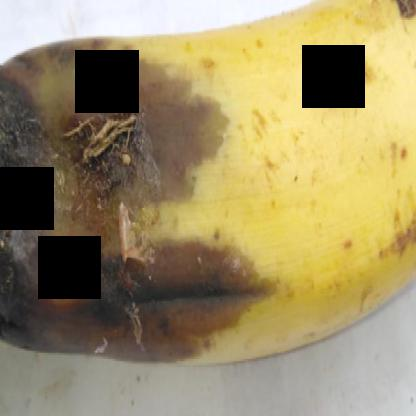rotten: (1, 15, 257, 392)
